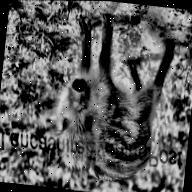boar: (43, 25, 181, 190)
